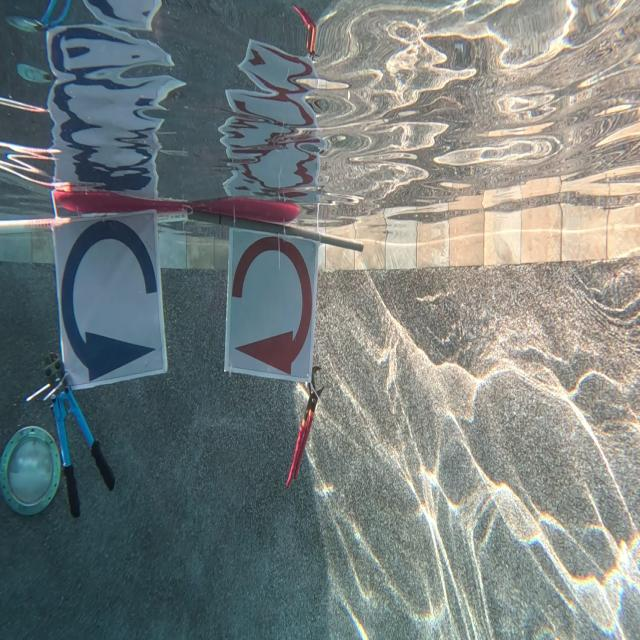blue_side: (52, 220, 164, 382)
red_side: (227, 224, 316, 380)
